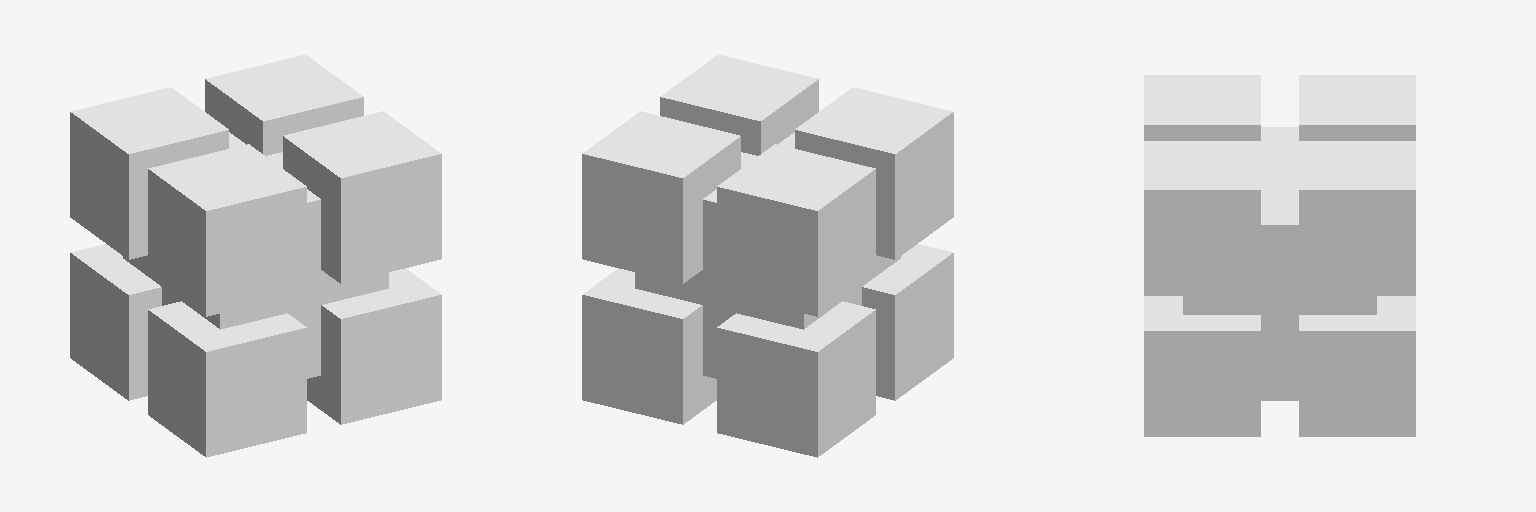
The model's file is blockOneSide.obj.
3 renders of one model, left to right at view 1: azimuth 30°, elevation 25°; view 2: azimuth 150°, elevation 25°; view 3: azimuth 270°, elevation 25°, orthographic.
Parts seen in each view (by area): view 1: object 1; view 2: object 1; view 3: object 1.
Boxes of the visible parts, box(x1,y1,x2,y2) form: object 1: box(70, 54, 441, 457); object 1: box(582, 54, 953, 457); object 1: box(1144, 75, 1415, 436).
Size of the model in its own units: 0.7 by 0.7 by 0.7.